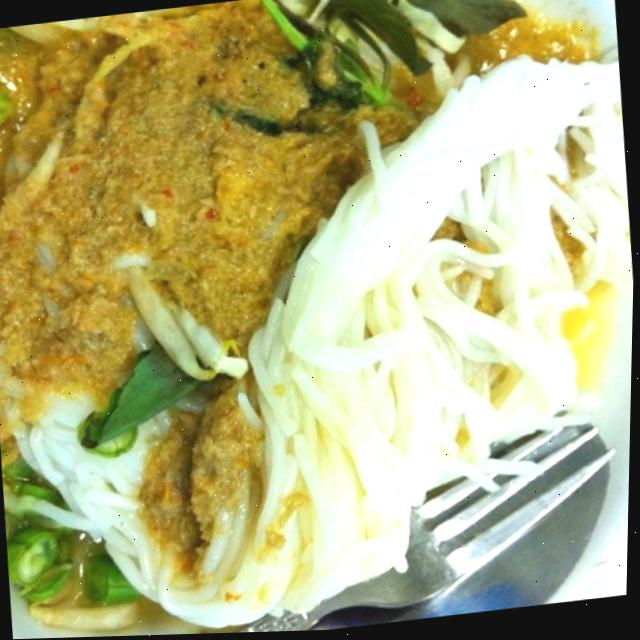面条主食: (0, 0, 637, 612)
